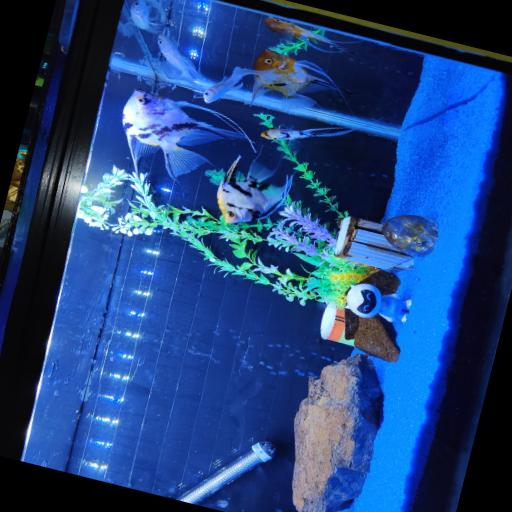Fish: (123, 89, 254, 179), (252, 49, 350, 110), (217, 156, 285, 223), (264, 18, 360, 54), (158, 34, 206, 91), (203, 67, 258, 103), (118, 0, 164, 36), (261, 128, 355, 141), (145, 0, 166, 23)
